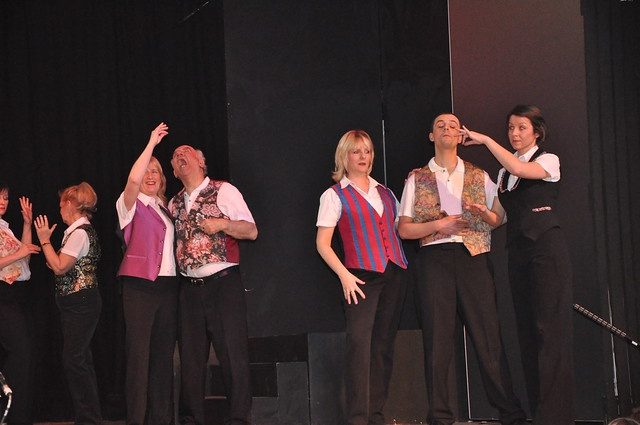bad: (497, 114, 533, 150)
